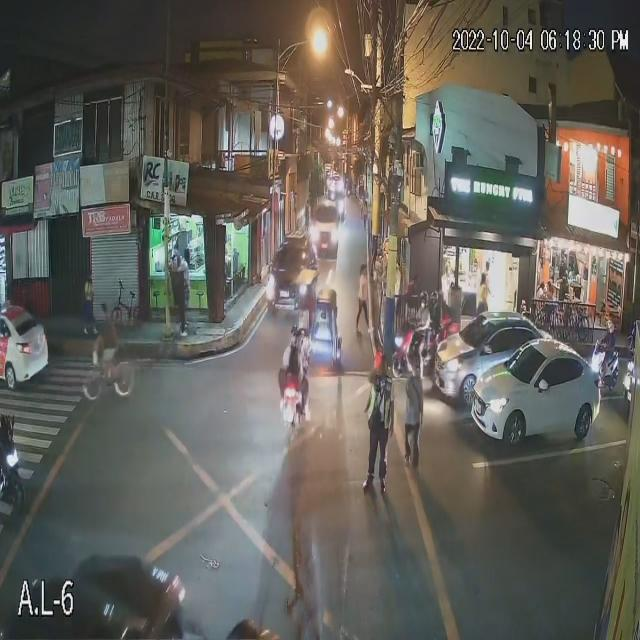helmet: (605, 320, 616, 335), (430, 291, 440, 301), (419, 292, 428, 300)
motorcycle: (0, 416, 32, 520), (397, 327, 449, 372), (272, 374, 312, 429), (590, 342, 619, 385)
rider: (286, 344, 300, 389), (431, 307, 440, 345), (419, 308, 427, 344)
